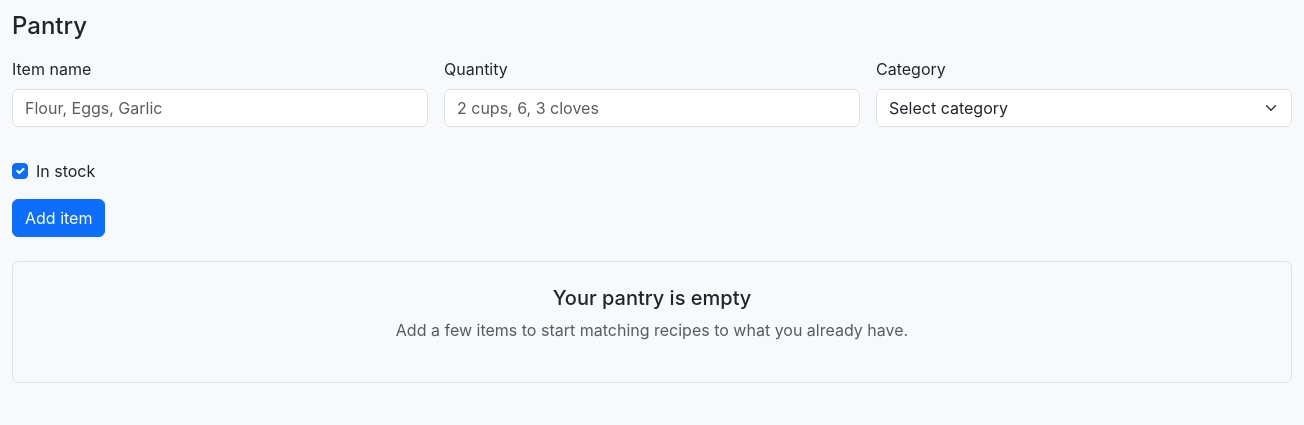
Test case: PantryPage › validation shows errors on empty submit
Expected: the heading "Your pantry is empty" is shown, [553,286,751,310]
Click the button "Add item" at coordinates (59, 218), box [12,199,105,237]
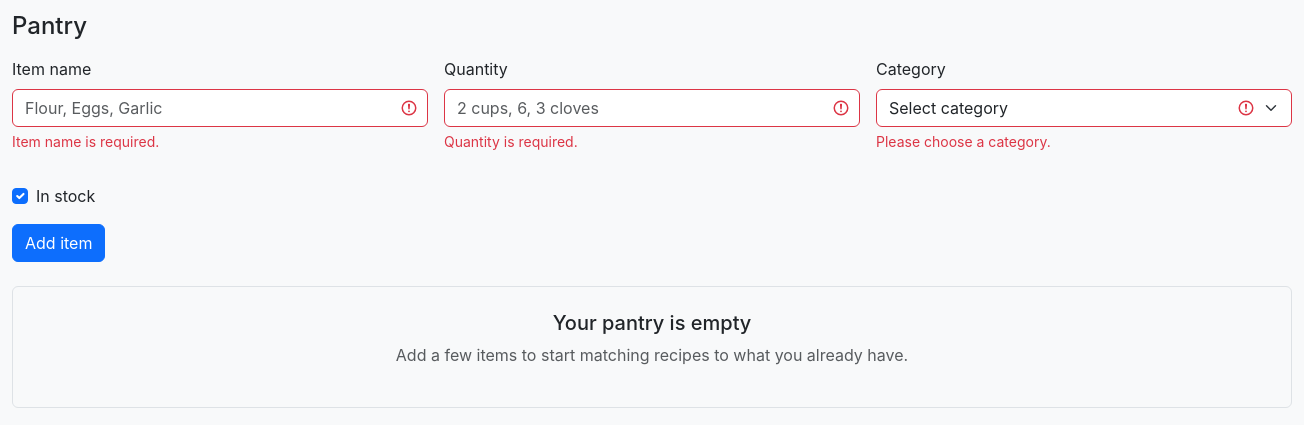
Expected: the text "Item name is required." is shown, [12,133,159,150]
Expected: the text "Quantity is required." is shown, [444,133,578,150]
Expected: the text "Please choose a category." is shown, [876,133,1051,150]
